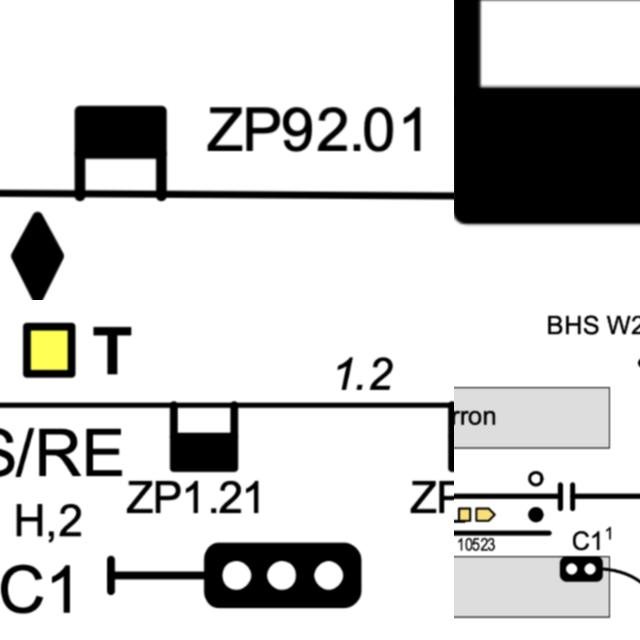mainsignal: (96, 534, 372, 620)
radzaehler: (454, 0, 640, 245), (64, 98, 172, 204), (164, 398, 242, 476)
trackjoint: (551, 482, 585, 514)
